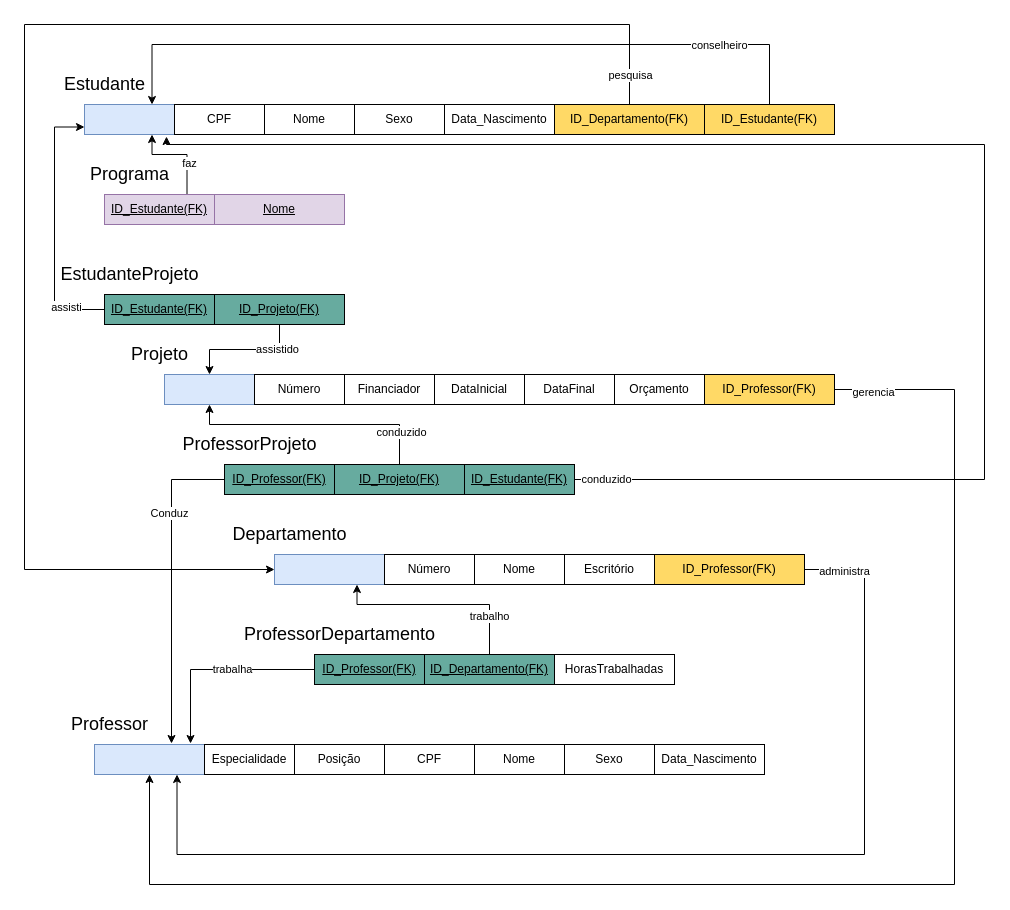
Image size: 1010x910. Some labels were removed from this diagram. The shapes that lost their labels are listed below. From the top down, each one's centre as x and y in pixels, then its label:
At point 129,119: "ID_Estudante".
At point 209,389: "ID_Projeto".
At point 329,569: "ID_Departamento".
At point 149,759: "ID_Professor".
